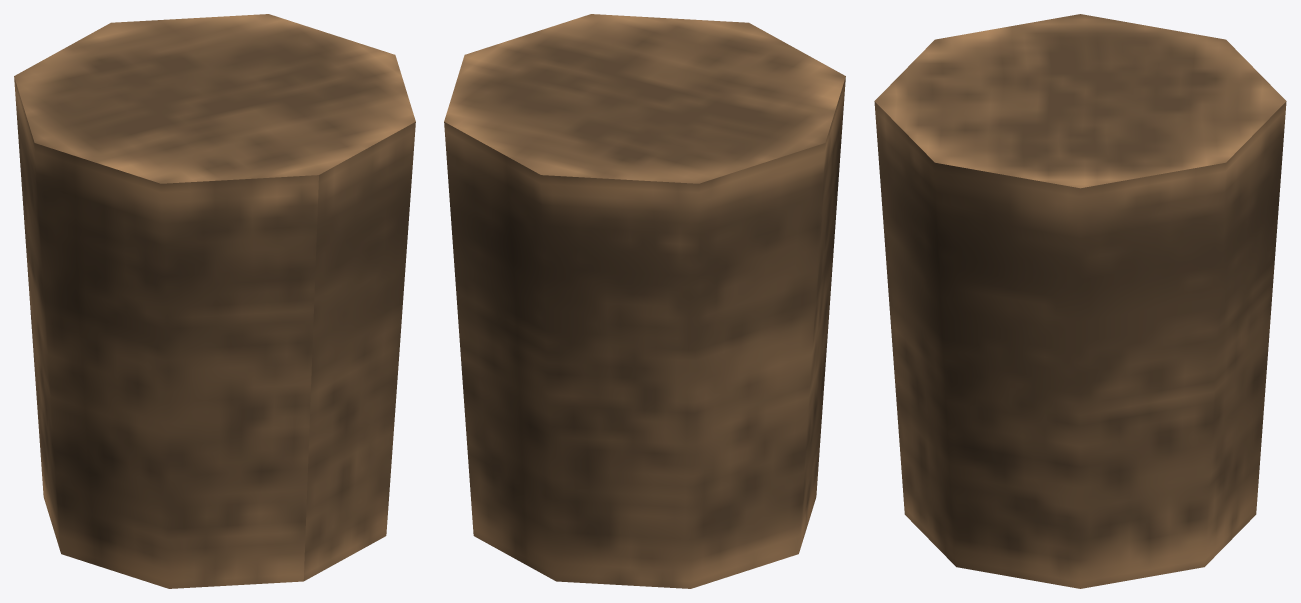
Rendered from LOD1_bung.fbx.
The picture shows the model from 3 angles, left to right: view 1: azimuth 30°, elevation 25°; view 2: azimuth 150°, elevation 25°; view 3: azimuth 270°, elevation 25°; orthographic projection.
Visible parts, largest first — view 1: LOD1_bung; view 2: LOD1_bung; view 3: LOD1_bung.
Boxes of the visible parts, bbox=[...] form: LOD1_bung: bbox=[14, 14, 415, 588]; LOD1_bung: bbox=[444, 14, 845, 588]; LOD1_bung: bbox=[874, 14, 1286, 588].
Bounding box in the file's own units: 0.0289 × 0.032 × 0.0289.
